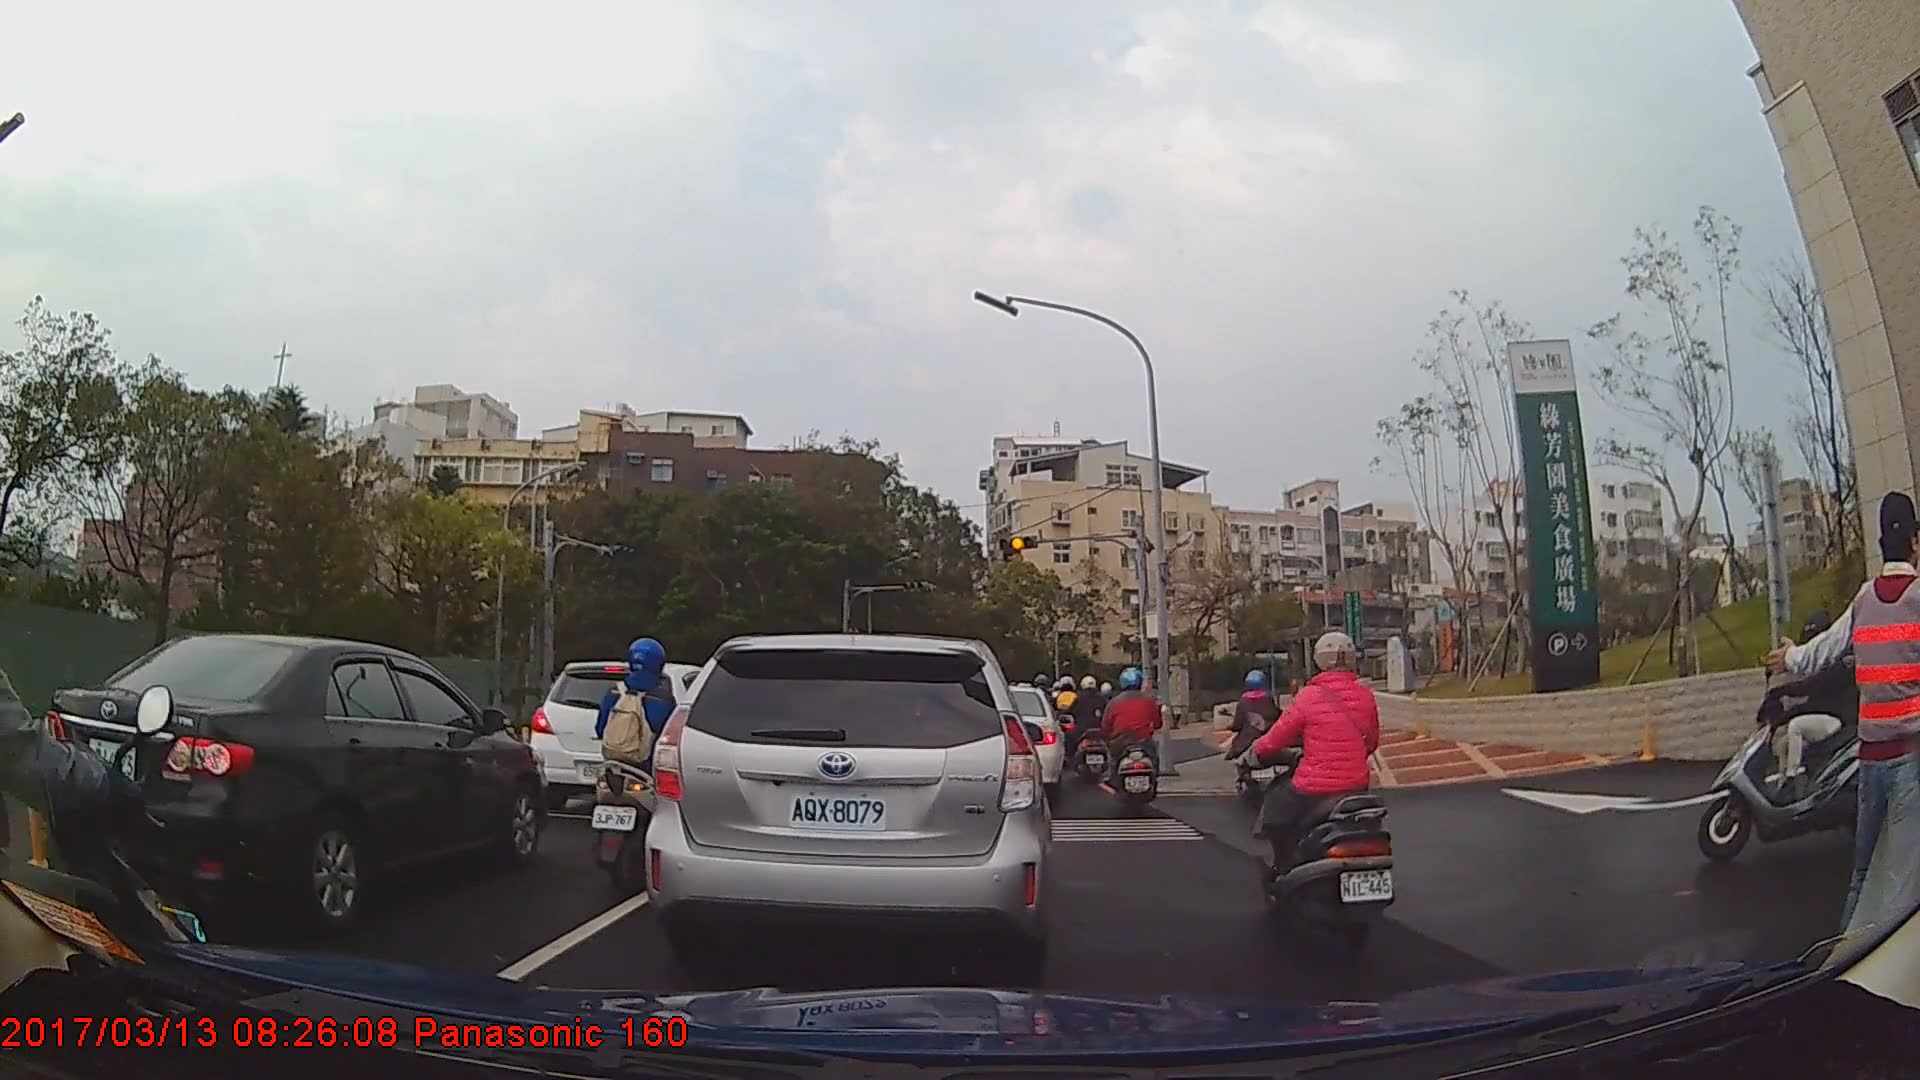pedestrian: (1773, 495, 1920, 979)
rider: (1697, 615, 1906, 857), (1248, 631, 1396, 962), (590, 631, 693, 900), (1098, 665, 1169, 822), (1230, 665, 1284, 811), (1069, 674, 1112, 784), (1051, 676, 1085, 768)
vehicle: (35, 631, 546, 931), (640, 633, 1050, 956), (528, 660, 739, 810), (957, 683, 1064, 799)
